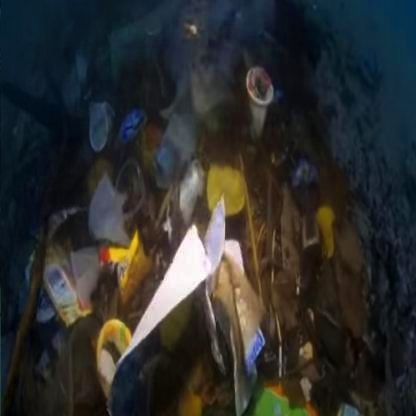plastic: (37, 222, 105, 326), (103, 222, 168, 299)
